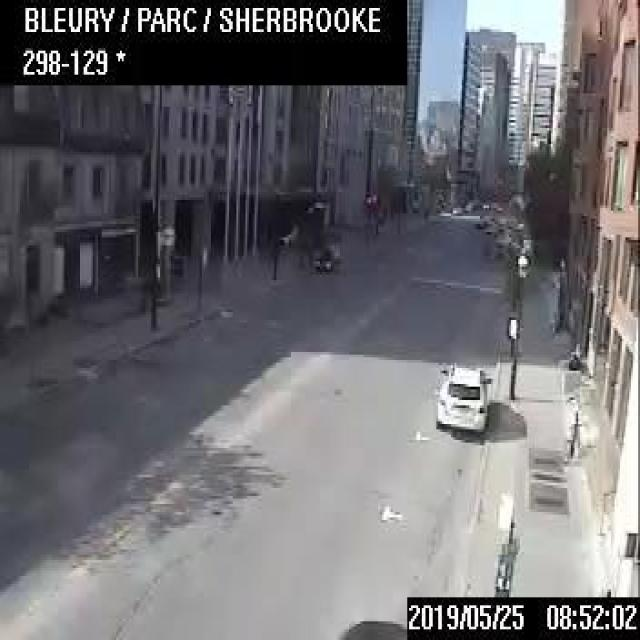vehicle: (434, 360, 490, 429), (336, 611, 406, 637), (310, 241, 340, 270)
